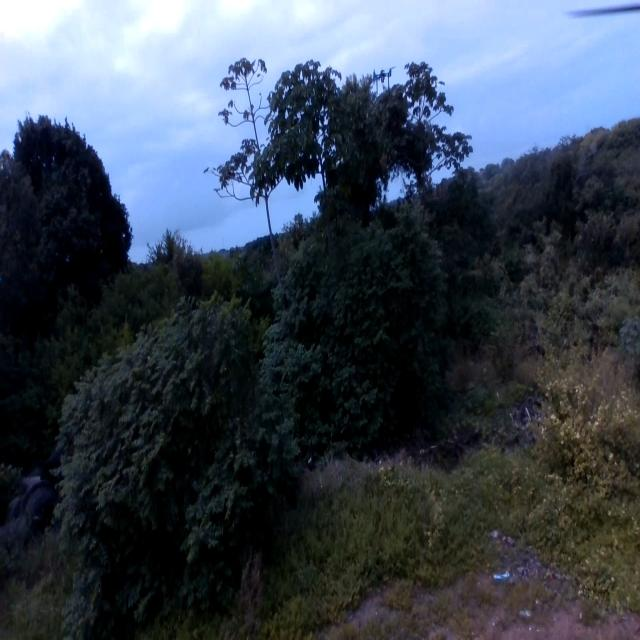-uav-: (364, 61, 399, 96)
